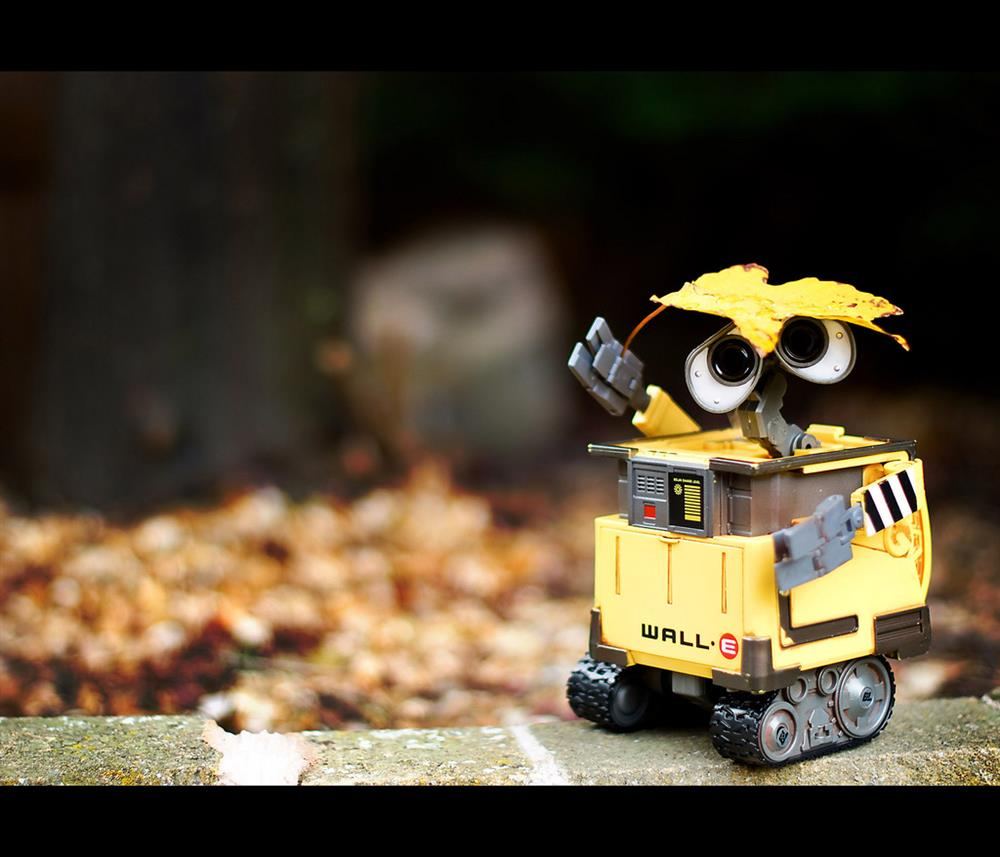walle: (563, 291, 933, 771)
